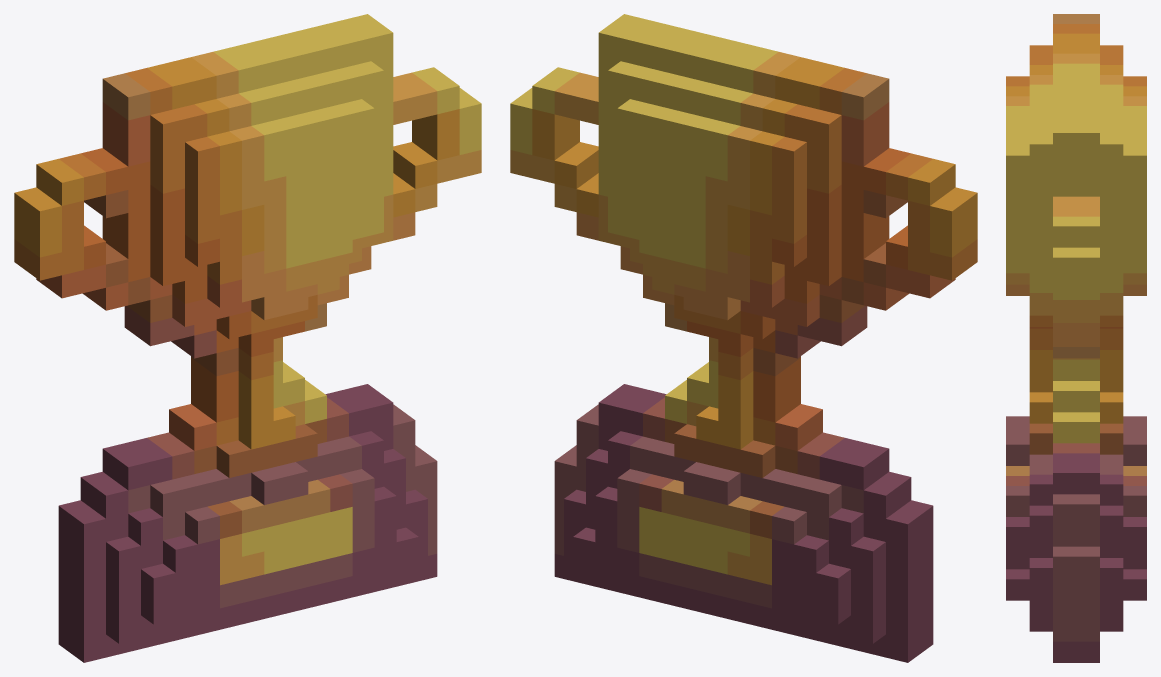
Rendered from trophy.glb.
The picture shows the model from 3 angles, left to right: view 1: azimuth 30°, elevation 25°; view 2: azimuth 150°, elevation 25°; view 3: azimuth 270°, elevation 25°; orthographic projection. The views are drawn at different scales.
Parts seen in each view (by area): view 1: prop; view 2: prop; view 3: prop.
Boxes of the visible parts, x1,y1,x2,y2 form: prop: (14,14,481,662); prop: (510,14,977,662); prop: (1006,14,1146,662).
Bounding box in the file's own units: 13.33 × 16 × 4.
